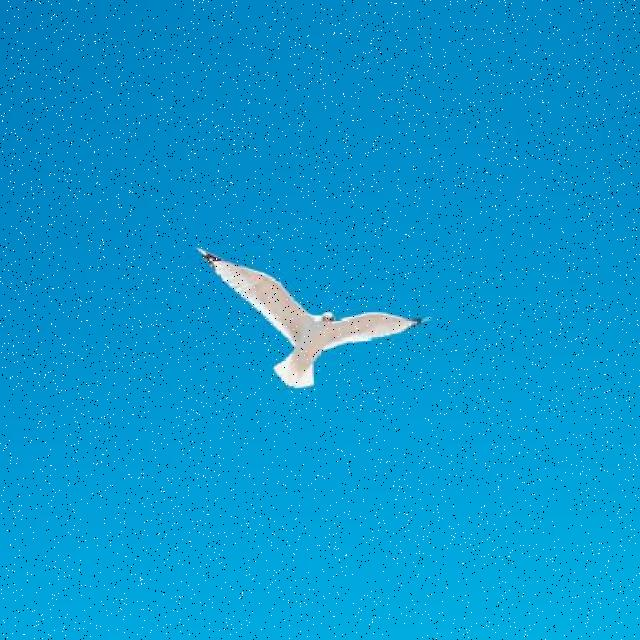bird: (198, 244, 434, 390)
